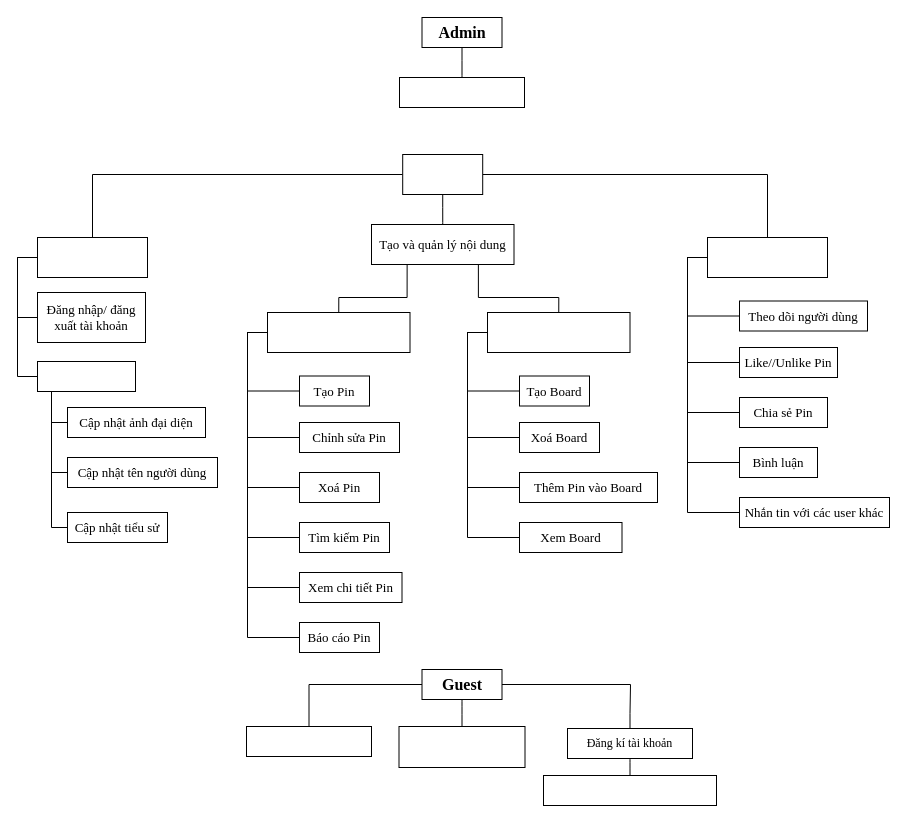
Some shapes in this 907 by 823 pixel diagram are drawn without their labels. Each missing label, with the box of its shape:
Nhập email, username, password: (542, 774, 716, 806)
Quản lý nội dung Board: (486, 312, 630, 352)
Quản lý nội dung Pin: (266, 312, 410, 352)
Quản lý profile: (36, 360, 136, 392)
Quản lý tài khoản: (36, 236, 148, 278)
Tìm kiếm Pins theo danh mục hoặc từ khoá: (398, 726, 525, 768)
Tương tác xã hội: (706, 236, 828, 278)
User: (402, 154, 483, 194)
Xem Pins công khai: (246, 726, 372, 756)
Xoá nội dung vi phạm: (398, 76, 524, 108)
